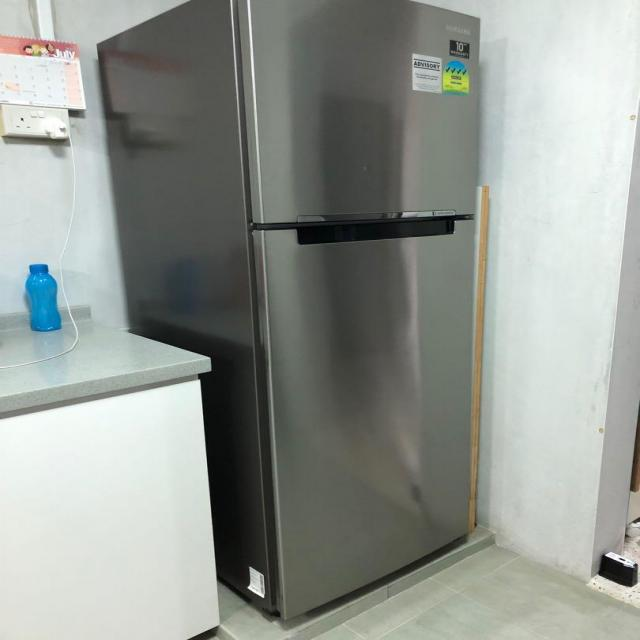refrigerator: (230, 1, 484, 616)
